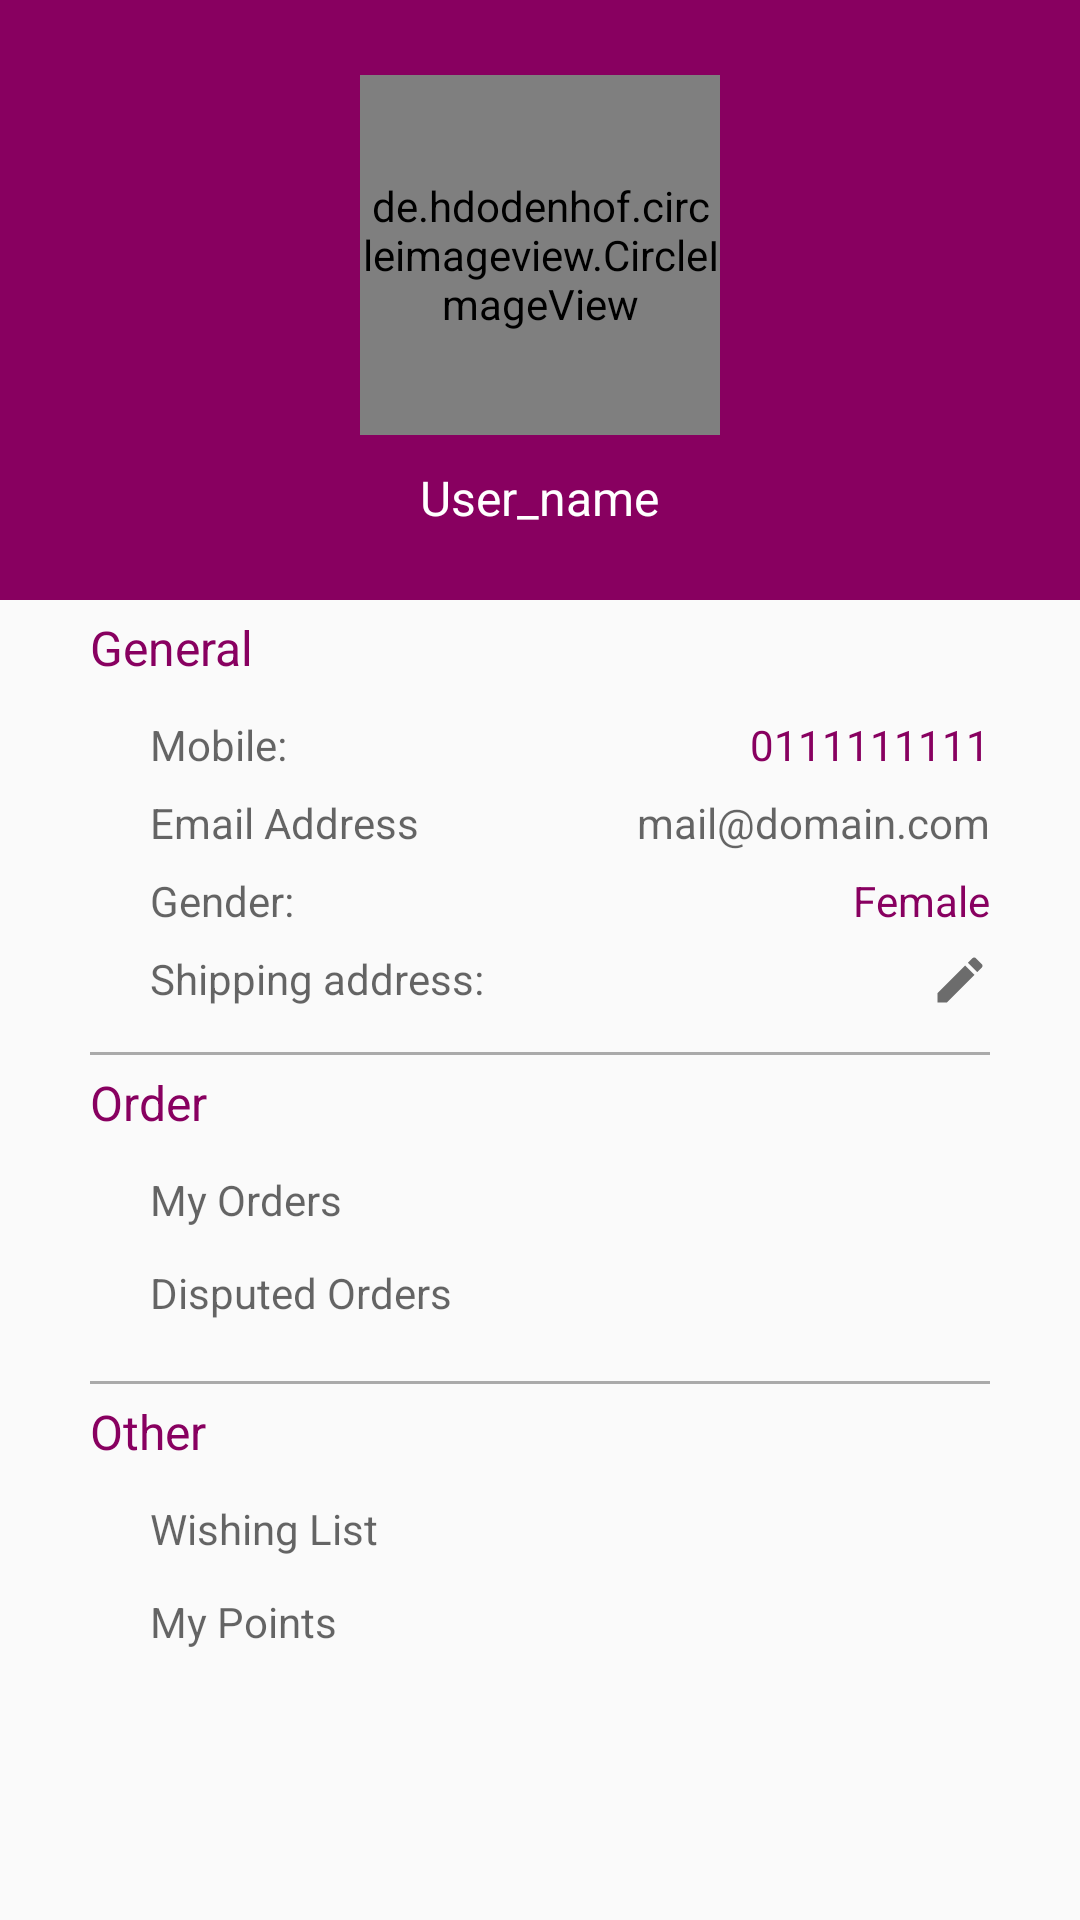

Point at icon controls on the screen. Image size 1080px×1920px, points as (x=x, y=y).
edit: (x=960, y=980)
